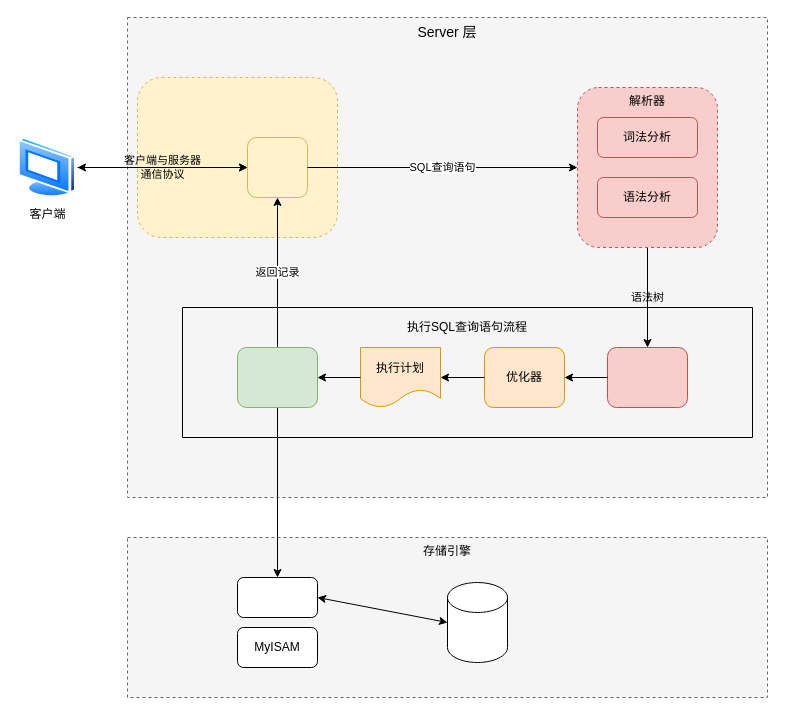
The diagram is 785 pixels wide and 715 high, and some of its shapes have lost their labels. Each missing label, with the box of its shape:
Innodb: (236, 576, 318, 618)
执行器: (236, 346, 318, 408)
数据: (446, 582, 508, 662)
连接器: (246, 136, 308, 198)
预处理器: (606, 346, 688, 408)
